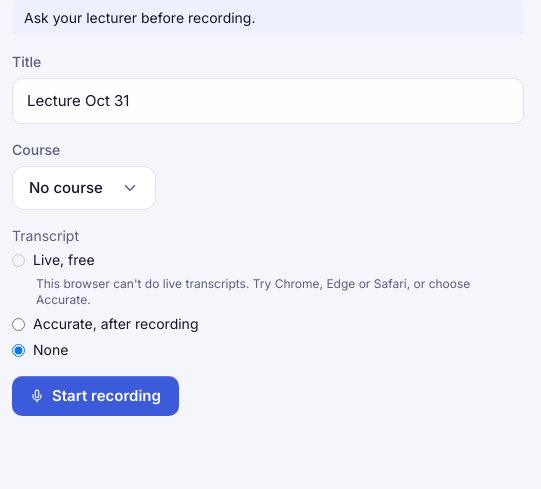
it: Recorder › a denied microphone gets a tip on allowing it
The image size is (541, 489).
Click the button "Start recording".
click(95, 396)  # box [12, 376, 179, 416]
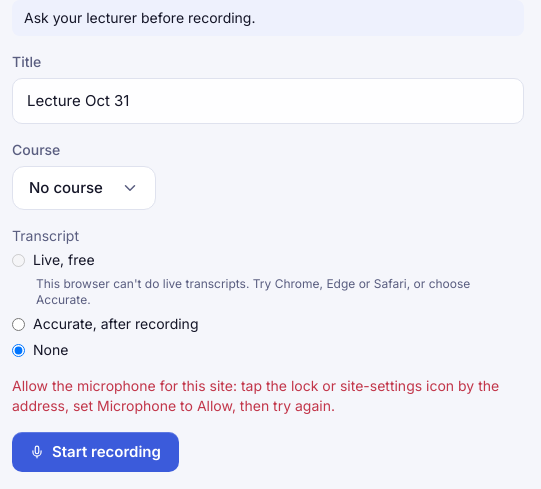
Result: the message shows "Allow the microphone" at [12, 377, 499, 414]
